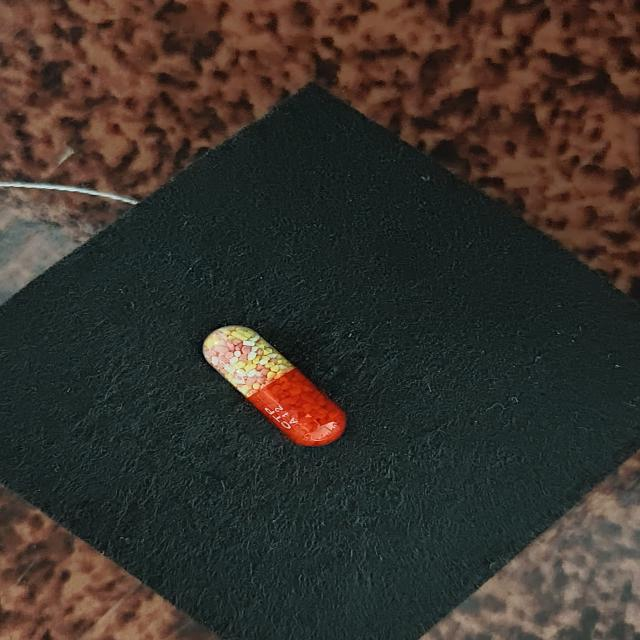Intact Capsule: (202, 325, 346, 446)
